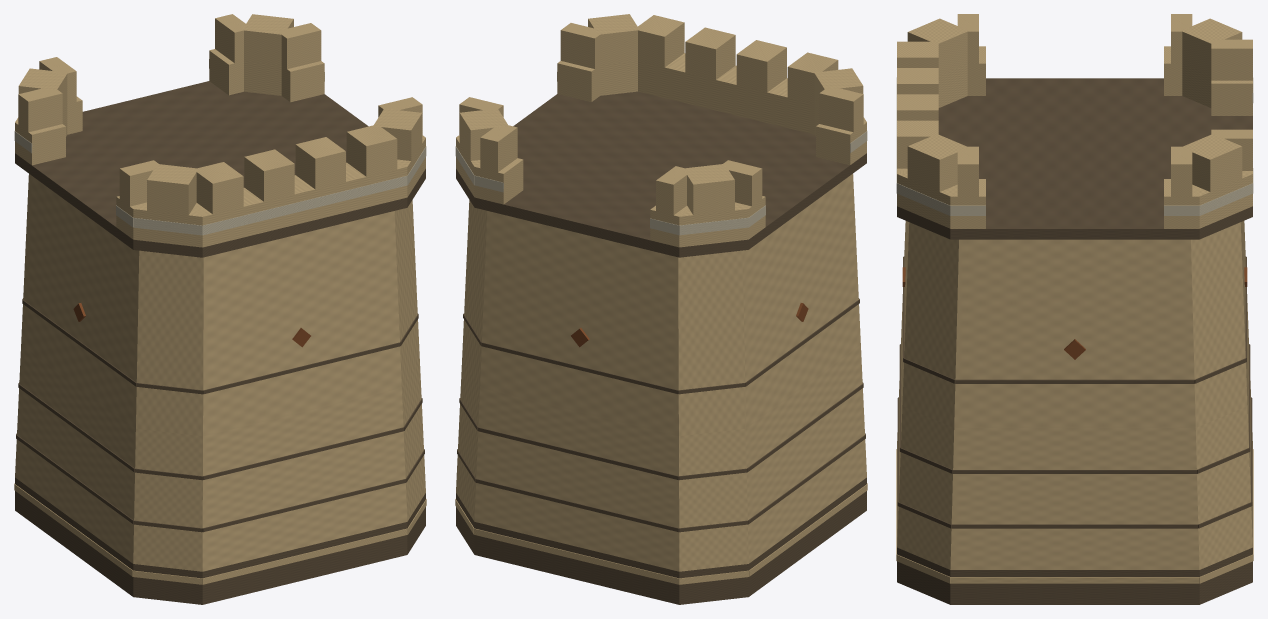
Rendered from Berber_Bastion_Age4_tee.fbx.
The picture shows the model from 3 angles, left to right: view 1: azimuth 30°, elevation 25°; view 2: azimuth 150°, elevation 25°; view 3: azimuth 270°, elevation 25°; orthographic projection. The views are drawn at different scales.
Parts seen in each view (by area): view 1: tee_battered_upper, tee_battered_lower, tee_continuous_walk_floor, tee_stone_foot, tee_guard_0_0, tee_owner_band_0_0, tee_guard_7_0, tee_guard_6_0, tee_merlon_0_0_1, tee_merlon_0_0_3, tee_merlon_0_0_2, tee_merlon_7_0_0 (+27 smaller); view 2: tee_battered_upper, tee_battered_lower, tee_continuous_walk_floor, tee_stone_foot, tee_guard_0_0, tee_guard_5_0, tee_merlon_0_0_2, tee_guard_6_1, tee_merlon_0_0_1, tee_guard_2_0, tee_foundation_bond_4, tee_merlon_0_0_3 (+28 smaller); view 3: tee_battered_upper, tee_battered_lower, tee_continuous_walk_floor, tee_stone_foot, tee_foundation_bond_2, tee_merlon_3_0_0, tee_merlon_1_0_0, tee_guard_4_1, tee_guard_1_0, tee_guard_3_0, tee_merlon_4_1_0, tee_dressed_course_1.45_2 (+23 smaller).
Boxes of the visible parts, bbox=[...] form: tee_battered_upper: bbox=[21, 174, 419, 436]; tee_battered_lower: bbox=[15, 345, 425, 571]; tee_continuous_walk_floor: bbox=[15, 81, 425, 257]; tee_stone_foot: bbox=[15, 477, 425, 604]; tee_guard_0_0: bbox=[192, 160, 407, 247]; tee_owner_band_0_0: bbox=[202, 175, 407, 235]; tee_guard_7_0: bbox=[133, 203, 206, 247]; tee_guard_6_0: bbox=[15, 122, 65, 165]; tee_merlon_0_0_1: bbox=[244, 159, 294, 201]; tee_merlon_0_0_3: bbox=[346, 132, 397, 176]; tee_merlon_0_0_2: bbox=[295, 145, 345, 189]; tee_merlon_7_0_0: bbox=[147, 173, 196, 215]; tee_battered_upper: bbox=[462, 174, 860, 436]; tee_battered_lower: bbox=[456, 345, 866, 571]; tee_continuous_walk_floor: bbox=[456, 91, 866, 257]; tee_stone_foot: bbox=[456, 477, 866, 604]; tee_guard_0_0: bbox=[638, 53, 814, 134]; tee_guard_5_0: bbox=[679, 202, 748, 247]; tee_merlon_0_0_2: bbox=[685, 35, 735, 79]; tee_guard_6_1: bbox=[816, 121, 866, 165]; tee_merlon_0_0_1: bbox=[736, 48, 786, 92]; tee_guard_2_0: bbox=[557, 61, 600, 102]; tee_foundation_bond_4: bbox=[474, 528, 679, 584]; tee_merlon_0_0_3: bbox=[638, 23, 684, 67]; tee_battered_upper: bbox=[902, 221, 1247, 427]; tee_battered_lower: bbox=[897, 312, 1252, 569]; tee_continuous_walk_floor: bbox=[897, 78, 1252, 239]; tee_stone_foot: bbox=[897, 547, 1252, 604]; tee_foundation_bond_2: bbox=[950, 577, 1199, 583]; tee_merlon_3_0_0: bbox=[1192, 147, 1242, 191]; tee_merlon_1_0_0: bbox=[907, 147, 957, 191]; tee_guard_4_1: bbox=[1211, 80, 1252, 115]; tee_guard_1_0: bbox=[897, 170, 957, 228]; tee_guard_3_0: bbox=[1170, 171, 1252, 228]; tee_merlon_4_1_0: bbox=[1211, 48, 1252, 80]; tee_dressed_course_1.45_2: bbox=[951, 524, 1198, 528].
Bounding box in the file's own units: 603 × 820 × 603.
4 materials, 4 textured.
